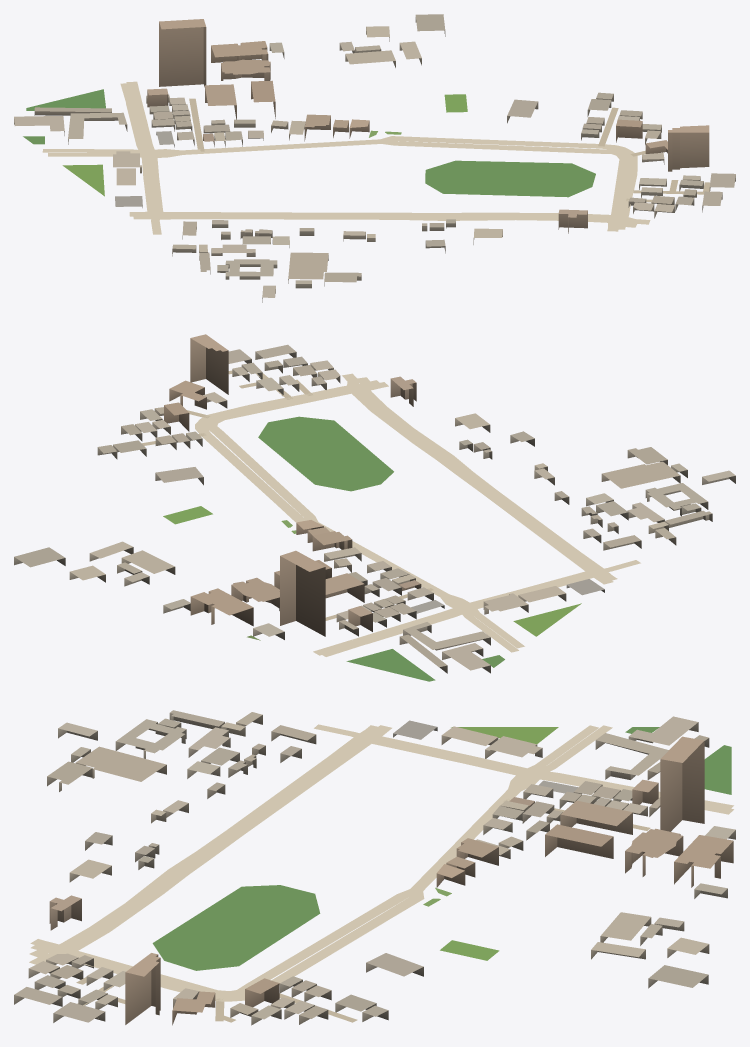
The picture shows the model from 3 angles, top to bottom: view 1: azimuth 30°, elevation 25°; view 2: azimuth 150°, elevation 25°; view 3: azimuth 270°, elevation 25°; orthographic projection. The views are drawn at different scales.
Parts seen in each view (by area): view 1: building, ground; view 2: building, ground; view 3: building, ground.
Part boxes in pixels (box(x1,y1,x2,y2)): building: box(14, 14, 735, 302); ground: box(23, 81, 709, 234); building: box(14, 334, 735, 673); ground: box(142, 370, 640, 681); building: box(14, 710, 735, 1025); ground: box(29, 724, 733, 1022).
Bounding box in the file's own units: 530 × 66 × 517.
